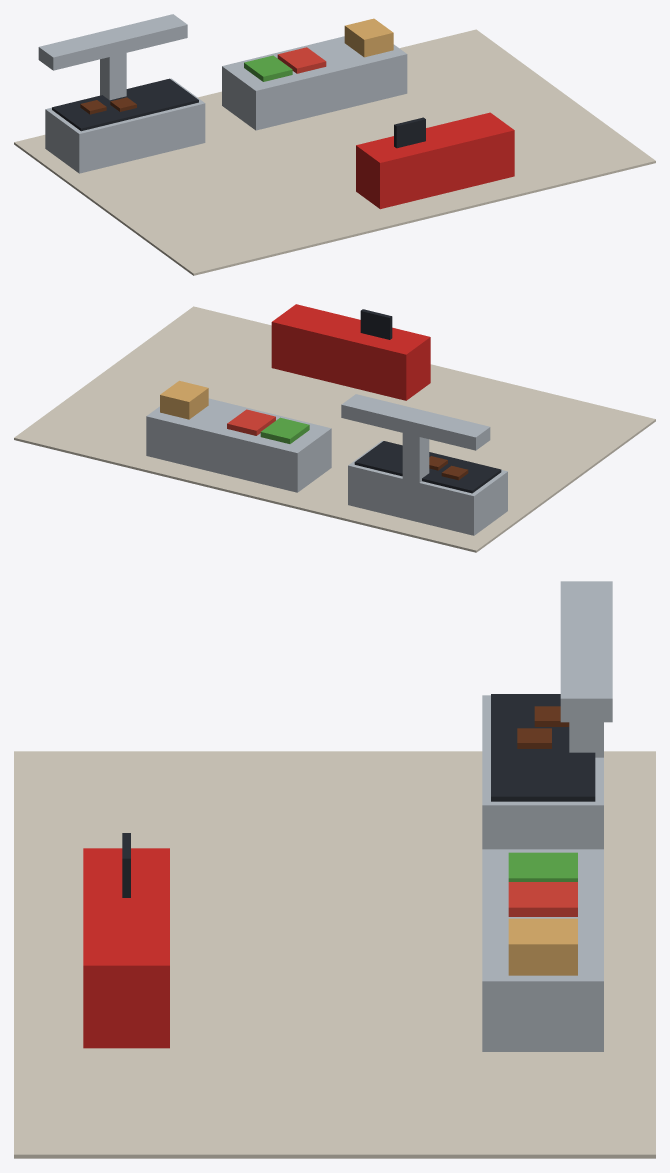
File: duplicate.glb
3 renders of one model, top to bottom at view 1: azimuth 30°, elevation 25°; view 2: azimuth 150°, elevation 25°; view 3: azimuth 270°, elevation 25°, orthographic. The views are drawn at different scales.
Visible parts, largest first — view 1: object 13, register, Grill, Cube.003, hood, griddle, bun rack, flue, lettuce bin, tomato bin, screen; view 2: object 13, register, Grill, Cube.003, hood, griddle, bun rack, flue, lettuce bin, tomato bin, screen; view 3: object 13, register, Grill, griddle, hood, Cube.003, bun rack, tomato bin, lettuce bin, flue.
Boxes of the visible parts, bbox=[...] form: object 13: bbox=[14, 29, 655, 275]; register: bbox=[356, 112, 514, 209]; Grill: bbox=[222, 36, 407, 130]; Cube.003: bbox=[45, 78, 205, 173]; hood: bbox=[38, 14, 187, 70]; griddle: bbox=[52, 78, 198, 131]; bun rack: bbox=[344, 18, 393, 57]; flue: bbox=[100, 53, 126, 100]; lettuce bin: bbox=[244, 55, 292, 81]; tomato bin: bbox=[277, 47, 326, 73]; screen: bbox=[394, 117, 425, 148]; object 13: bbox=[14, 306, 655, 552]; register: bbox=[271, 304, 430, 400]; Grill: bbox=[146, 398, 331, 492]; Cube.003: bbox=[348, 440, 507, 535]; hood: bbox=[341, 394, 490, 450]; griddle: bbox=[354, 441, 501, 493]; bun rack: bbox=[160, 380, 208, 419]; flue: bbox=[402, 433, 429, 482]; lettuce bin: bbox=[260, 417, 309, 443]; tomato bin: bbox=[227, 409, 275, 435]; screen: bbox=[360, 309, 392, 339]; object 13: bbox=[14, 751, 655, 1158]; register: bbox=[83, 848, 169, 1048]; Grill: bbox=[482, 849, 603, 1051]; griddle: bbox=[491, 694, 595, 801]; hood: bbox=[560, 581, 612, 722]; Cube.003: bbox=[482, 695, 603, 849]; bun rack: bbox=[508, 918, 577, 975]; tomato bin: bbox=[508, 882, 577, 916]; lettuce bin: bbox=[508, 852, 577, 881]; flue: bbox=[569, 722, 603, 757].
Bounding box in the file's own units: 11 × 2.35 × 7.4.
